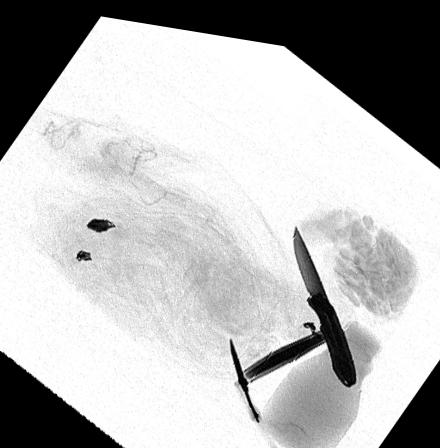Knife: (291, 212, 358, 379)
Powerbank: (239, 307, 342, 382)
Scissors: (224, 329, 283, 448)
